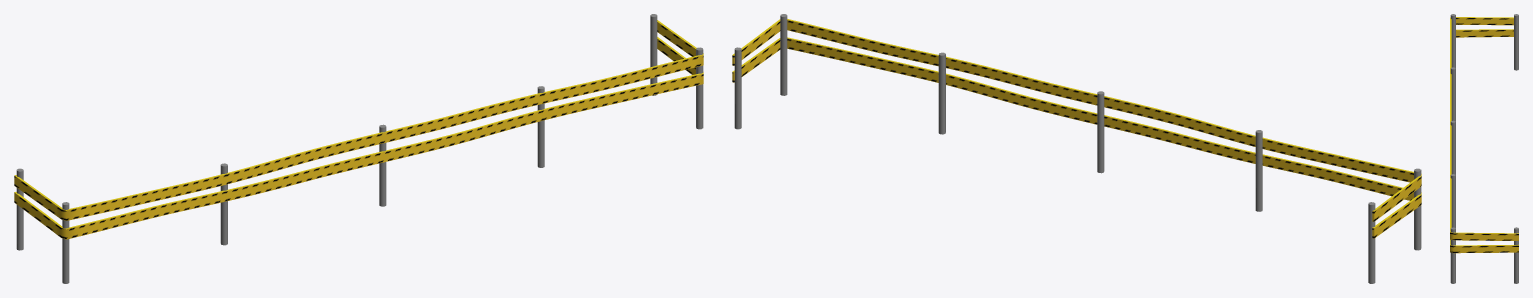
File: ConstructionZoneWarning.FBX
The picture shows the model from 3 angles, left to right: view 1: azimuth 30°, elevation 25°; view 2: azimuth 150°, elevation 25°; view 3: azimuth 270°, elevation 25°; orthographic projection. The views are drawn at different scales.
Parts seen in each view (by area): view 1: Warning tape, Warning tape001, Cylinder006; view 2: Warning tape, Warning tape001, Cylinder006; view 3: Cylinder006, Warning tape, Warning tape001.
Boxes of the visible parts, <box> form: Warning tape: <box>14,20,703,220</box>; Warning tape001: <box>14,37,703,239</box>; Cylinder006: <box>16,14,703,283</box>; Warning tape: <box>732,19,1421,221</box>; Warning tape001: <box>732,37,1421,238</box>; Cylinder006: <box>734,14,1421,283</box>; Cylinder006: <box>1450,14,1518,283</box>; Warning tape: <box>1450,17,1518,240</box>; Warning tape001: <box>1450,29,1518,253</box>.
Bounding box in the file's own units: 1621 × 219 × 190.
Materials: 3 (1 with a texture image).
